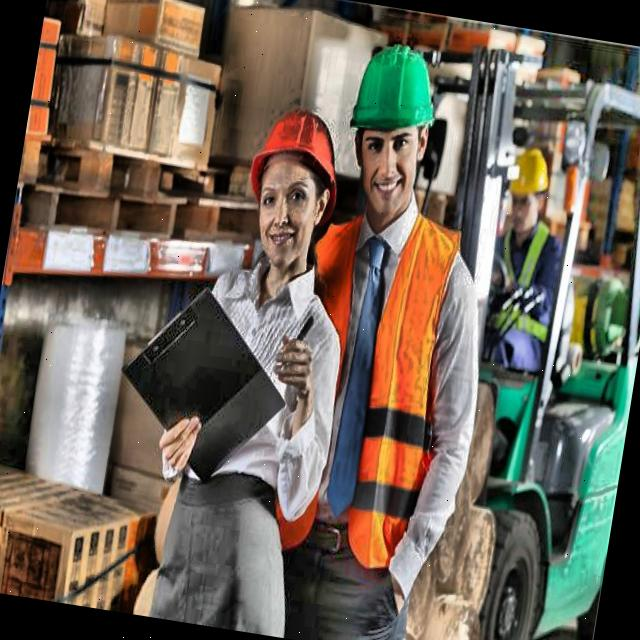helmet: (326, 23, 457, 235), (234, 87, 350, 272), (500, 146, 554, 230)
